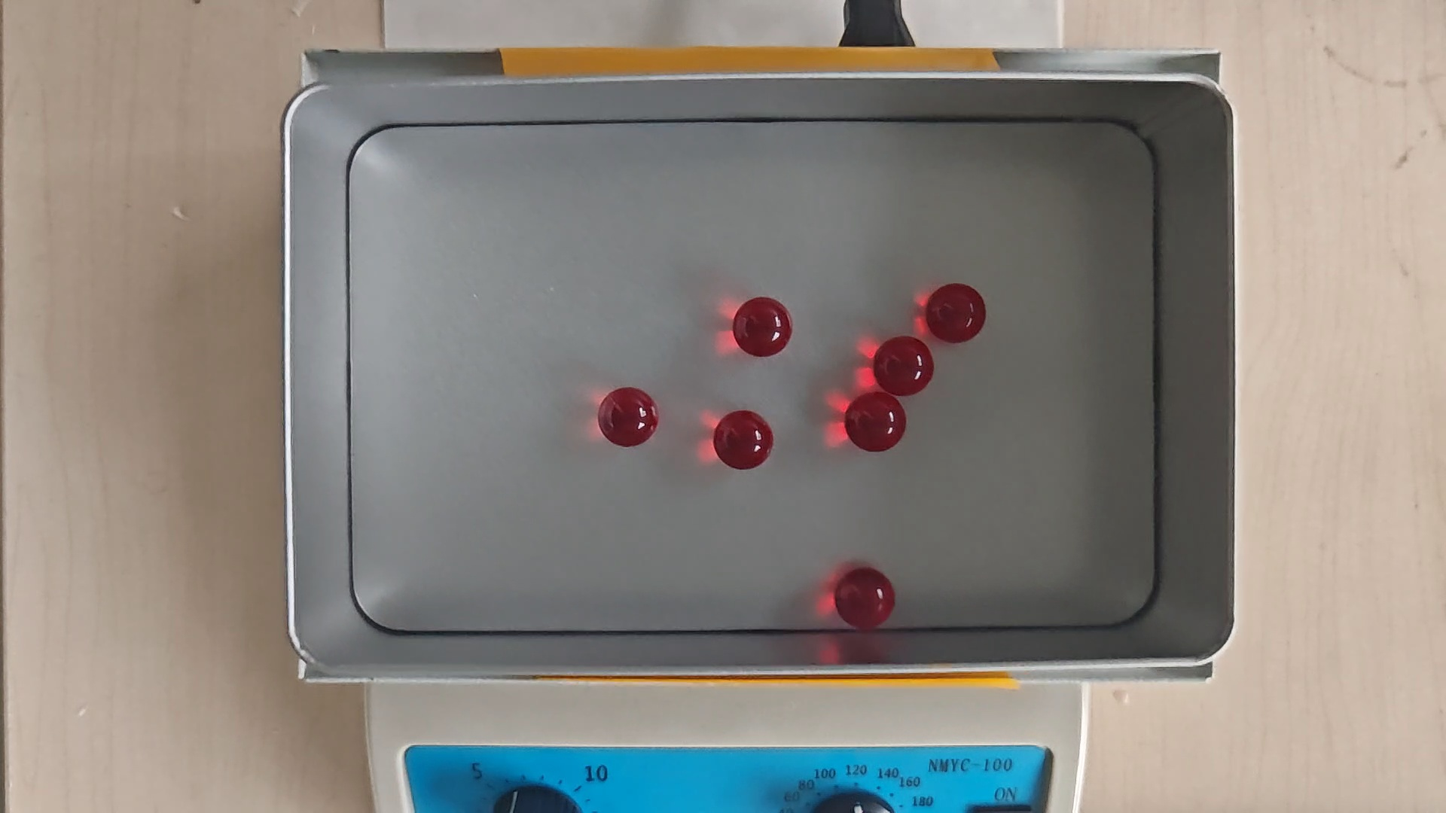ball: (714, 410, 776, 473), (596, 386, 656, 449), (733, 294, 794, 355), (926, 281, 987, 342), (846, 392, 908, 451), (837, 568, 896, 630), (876, 336, 935, 396)
container: (345, 118, 1153, 632)
